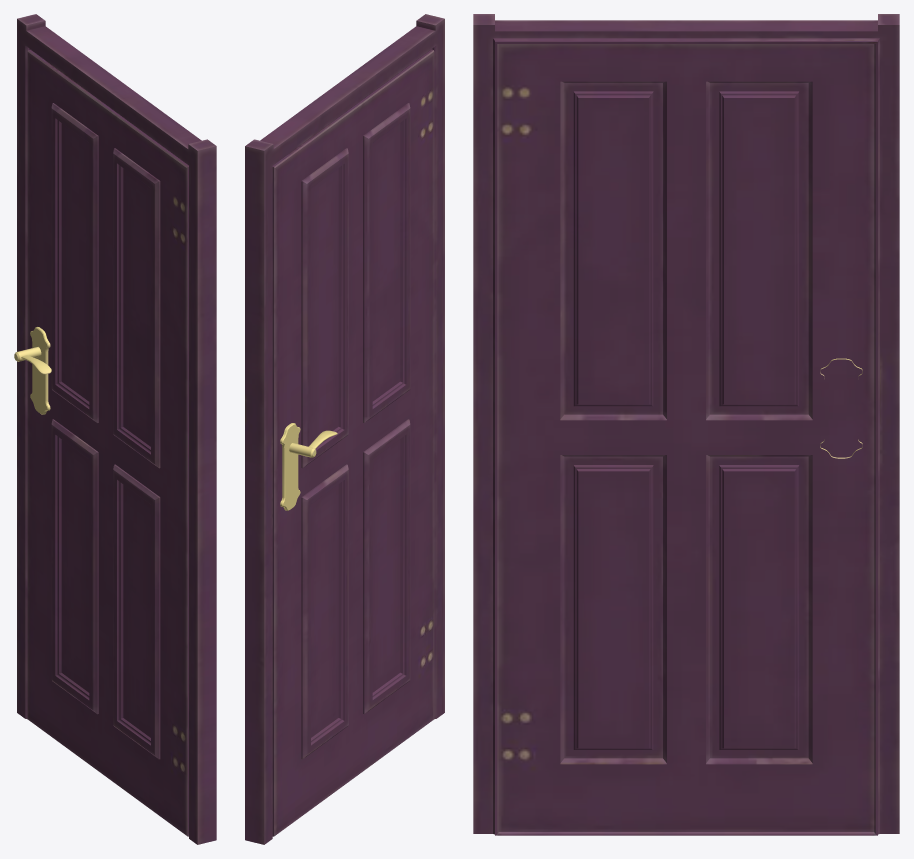
File: doorA.glb
3 renders of one model, left to right at view 1: azimuth 30°, elevation 25°; view 2: azimuth 150°, elevation 25°; view 3: azimuth 270°, elevation 25°, orthographic. The views are drawn at different scales.
Visible parts, largest first — view 1: Door_Default_0; view 2: Door_Default_0; view 3: Door_Default_0.
Boxes of the visible parts, x1,y1,x2,y2 form: Door_Default_0: (14,14,216,844); Door_Default_0: (245,14,444,844); Door_Default_0: (473,14,899,835).
Bounding box in the file's own units: 14.01 × 207 × 97.41.
Materials: 1 (1 with a texture image).
